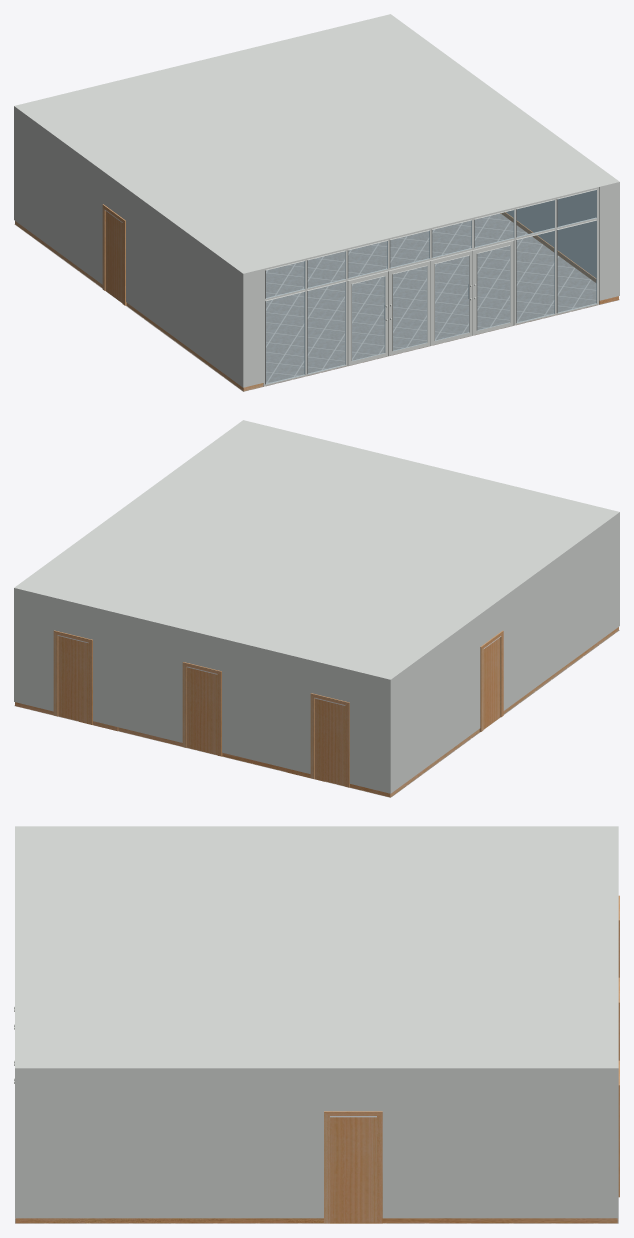
File: atrio.glb
3 views of the same model, one above another, from view 1: azimuth 30°, elevation 25°; view 2: azimuth 150°, elevation 25°; view 3: azimuth 270°, elevation 25° (orthographic). The views are drawn at different scales.
Parts seen in each view (by area): view 1: Pareti, Ingresso, Pavimento; view 2: Pareti, Pavimento; view 3: Pareti, Pavimento.
Boxes of the visible parts, bbox=[...] form: Pareti: bbox=[14, 14, 619, 391]; Ingresso: bbox=[266, 190, 596, 383]; Pavimento: bbox=[14, 213, 619, 391]; Pareti: bbox=[14, 420, 619, 797]; Pavimento: bbox=[14, 630, 619, 797]; Pareti: bbox=[14, 826, 619, 1223]; Pavimento: bbox=[15, 1218, 618, 1223].
Size of the model in its own units: 15.31 by 4.56 by 16.12.
Materials: 5 (5 with a texture image).
